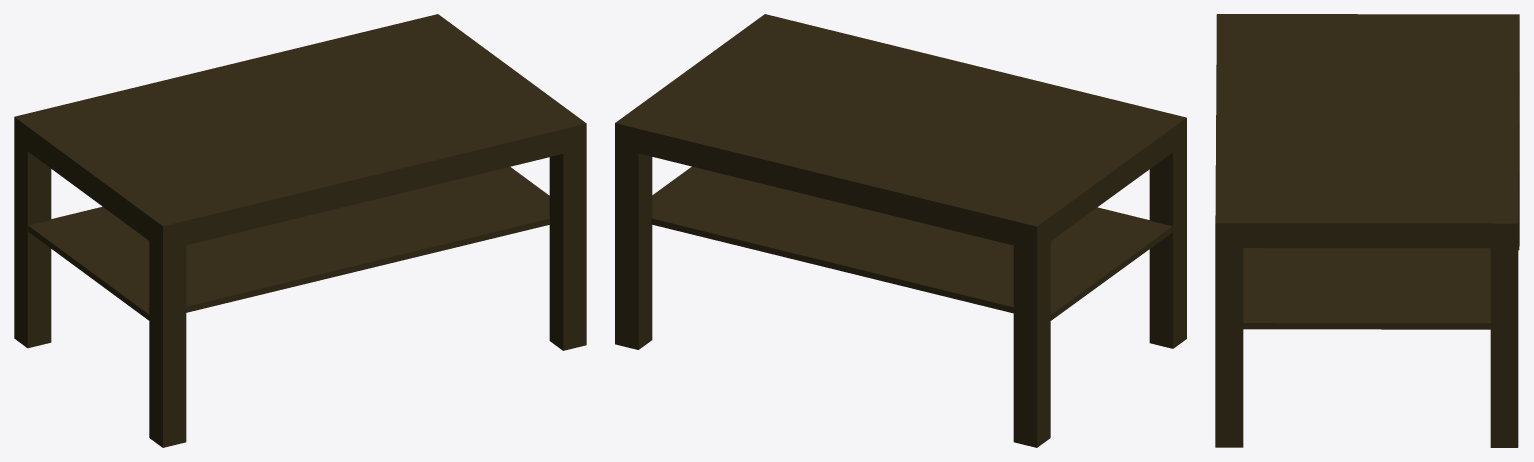
Rendered from ikea_low_table_lack.dae.
The picture shows the model from 3 angles, left to right: view 1: azimuth 30°, elevation 25°; view 2: azimuth 150°, elevation 25°; view 3: azimuth 270°, elevation 25°; orthographic projection.
Parts seen in each view (by area): view 1: IKEA_low_table_LACK_2; view 2: IKEA_low_table_LACK_2; view 3: IKEA_low_table_LACK_2.
Boxes of the visible parts, x1,y1,x2,y2 form: IKEA_low_table_LACK_2: [14, 14, 586, 447]; IKEA_low_table_LACK_2: [615, 14, 1186, 447]; IKEA_low_table_LACK_2: [1215, 14, 1519, 447].
Size of the model in its own units: 0.9008 by 0.5525 by 0.45.
